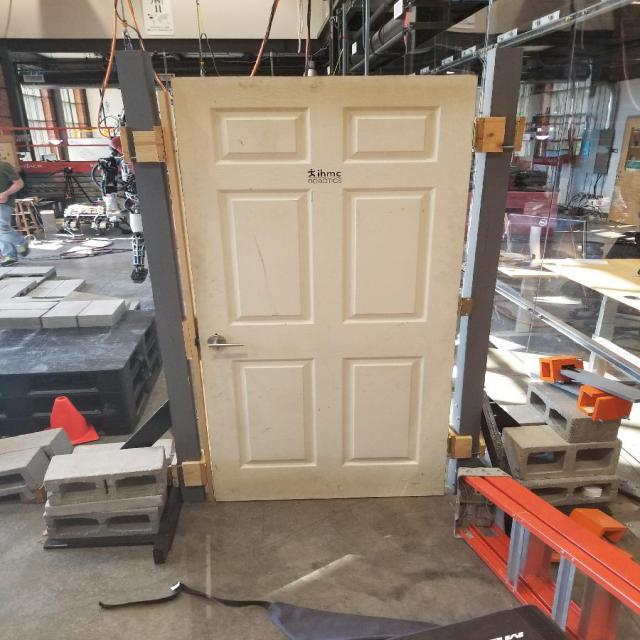door: (166, 71, 478, 503), (202, 330, 248, 355)
